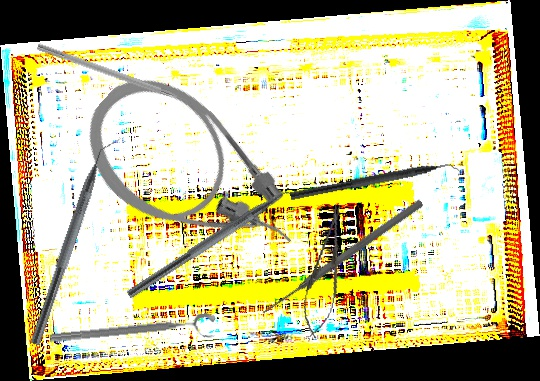Cannula: (62, 53, 319, 302)
Chopper: (125, 176, 309, 311), (30, 130, 123, 351), (33, 42, 202, 118), (289, 156, 466, 212)
Fixation Ring: (49, 312, 217, 356)
Needle Holder: (296, 201, 355, 341)
Pusher: (258, 197, 425, 319)
